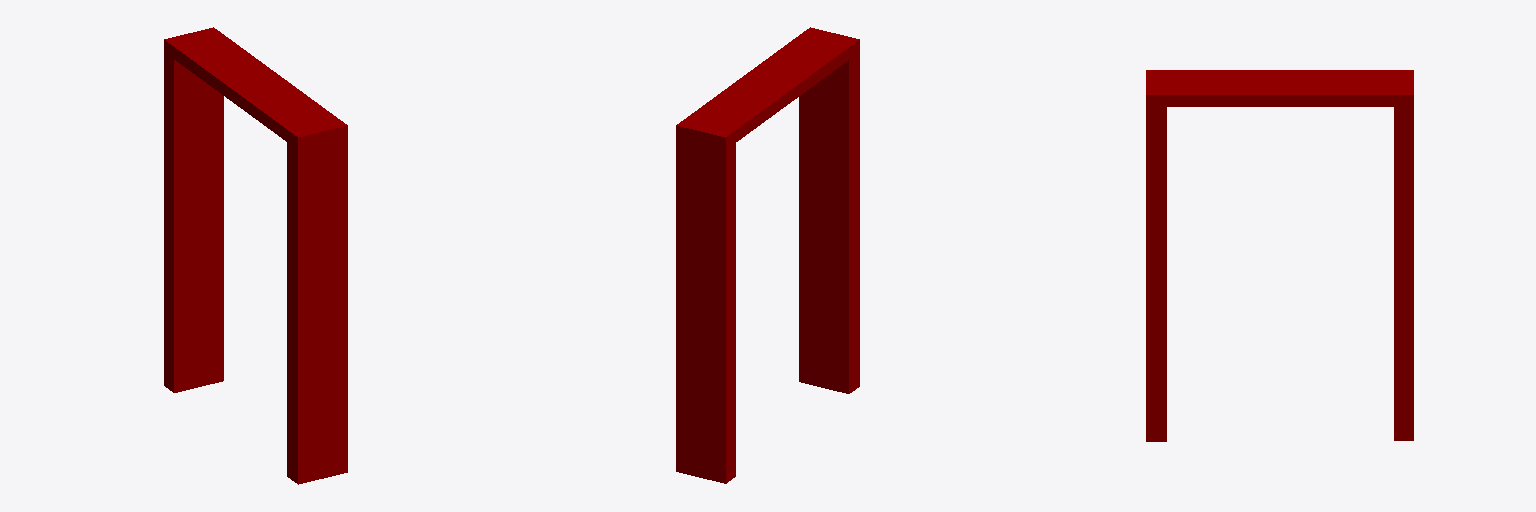
File: DoorF.obj
The picture shows the model from 3 angles: view 1: azimuth 30°, elevation 25°; view 2: azimuth 150°, elevation 25°; view 3: azimuth 270°, elevation 25°; orthographic projection.
Visible parts, largest first — view 1: Cube.004_Cube.003; view 2: Cube.004_Cube.003; view 3: Cube.004_Cube.003.
Boxes of the visible parts, x1,y1,x2,y2 form: Cube.004_Cube.003: [164, 27, 347, 484]; Cube.004_Cube.003: [676, 27, 859, 483]; Cube.004_Cube.003: [1146, 70, 1413, 441].
Bounding box in the file's own units: 0.3001 × 2 × 1.4.